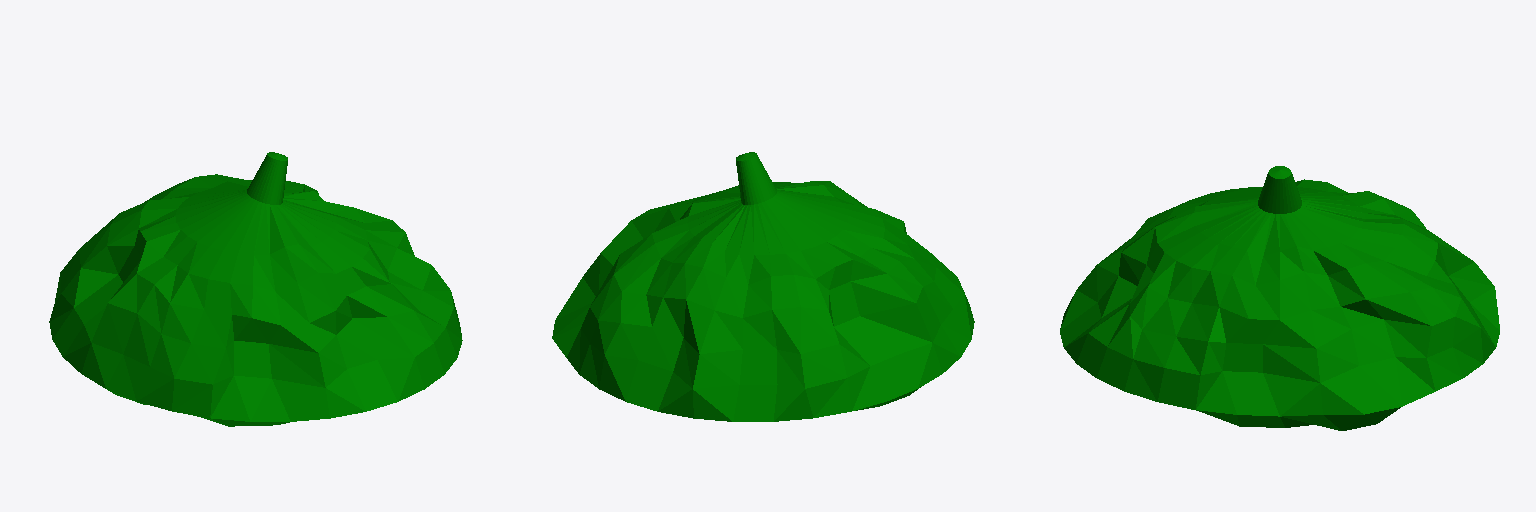
The model's file is casco.obj.
The picture shows the model from 3 angles: view 1: azimuth 30°, elevation 25°; view 2: azimuth 150°, elevation 25°; view 3: azimuth 270°, elevation 25°; orthographic projection.
Visible parts, largest first — view 1: Object001; view 2: Object001; view 3: Object001.
Part boxes in pixels (x1,y1,x2,y2): Object001: (49, 152, 462, 426); Object001: (552, 152, 974, 421); Object001: (1060, 166, 1499, 430).
Bounding box in the file's own units: 9.92 × 5.26 × 10.83.